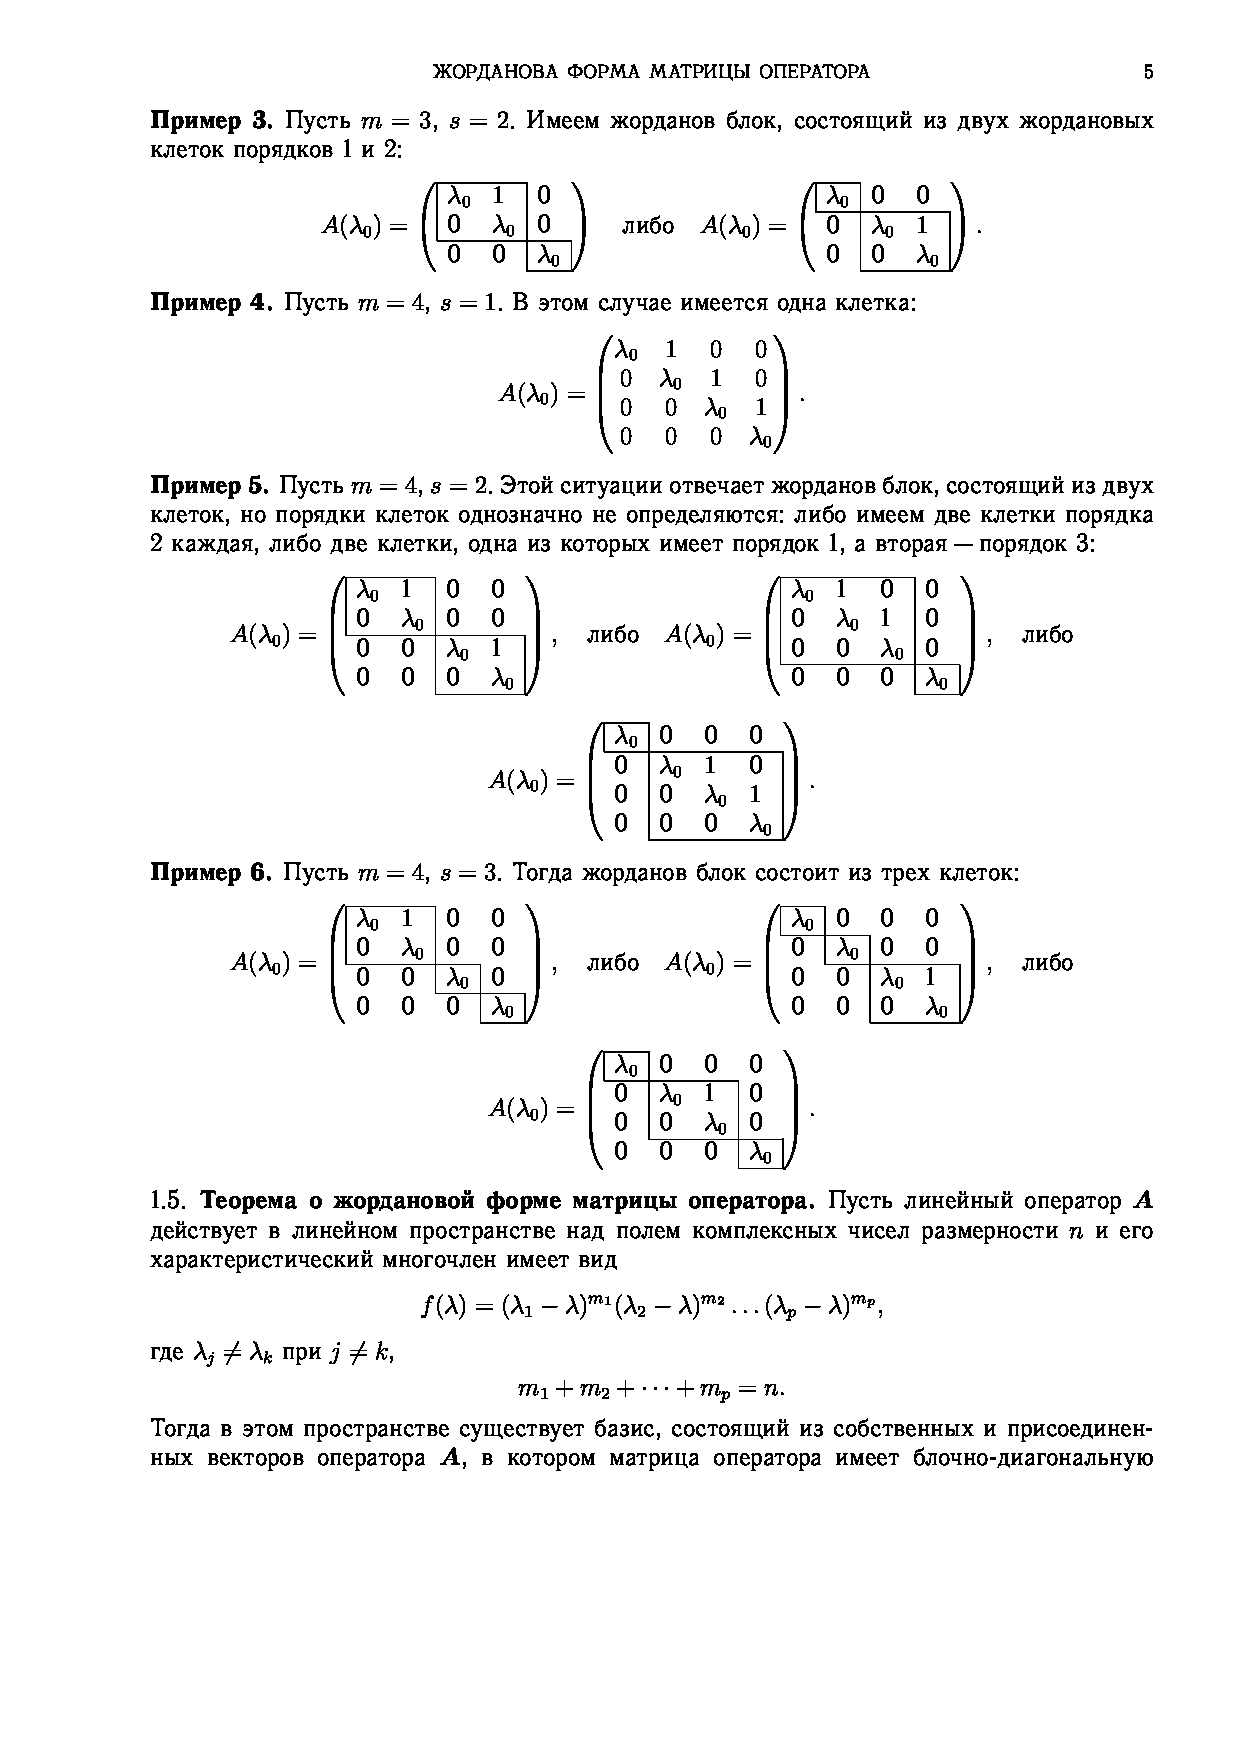pMatrix: (586, 1049, 803, 1176), (764, 905, 980, 1027), (330, 906, 542, 1029), (330, 576, 542, 698), (586, 722, 800, 841), (764, 576, 976, 695), (599, 336, 790, 456), (798, 180, 966, 276), (421, 180, 586, 278)
